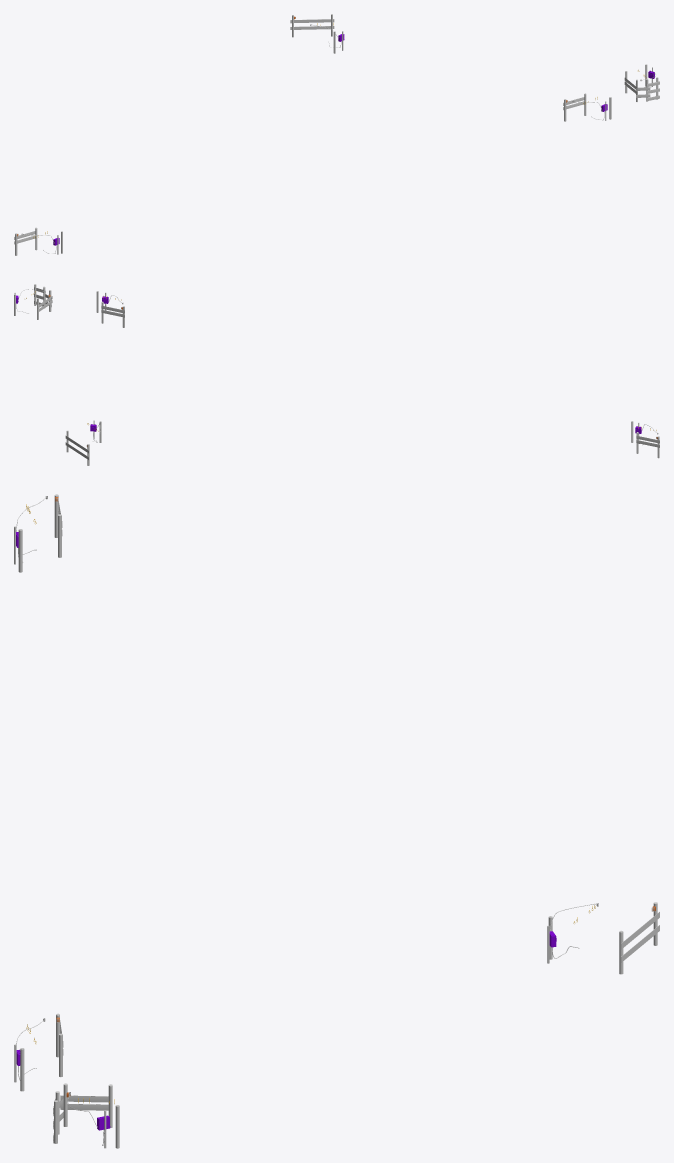
File: Winch standards Feedback 4.fbx
The picture shows the model from 3 angles, top to bottom: view 1: azimuth 30°, elevation 25°; view 2: azimuth 150°, elevation 25°; view 3: azimuth 270°, elevation 25°; orthographic projection. The views are drawn at different scales.
Size of the model in its own units: 5554 by 197 by 2463.
